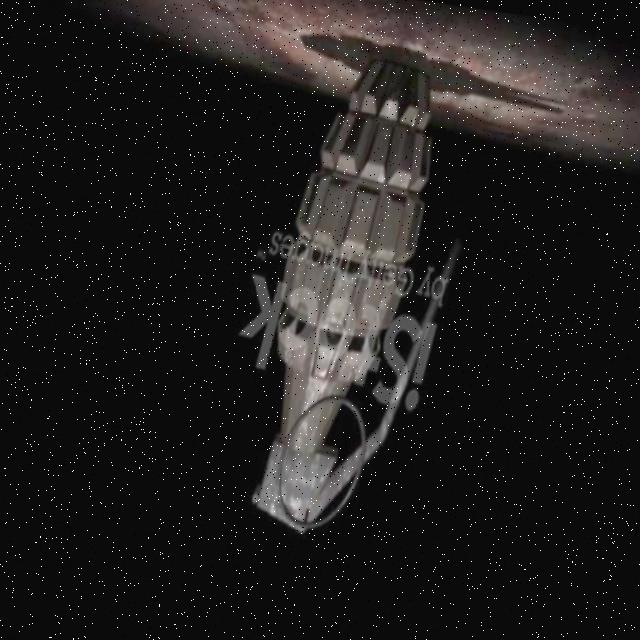grenade: (196, 26, 518, 577)
